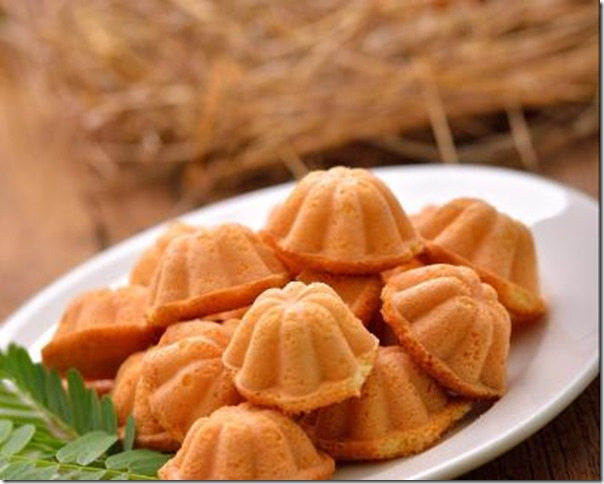kanomkai: (215, 282, 388, 418), (383, 255, 521, 410), (137, 211, 309, 334), (261, 156, 429, 276)
